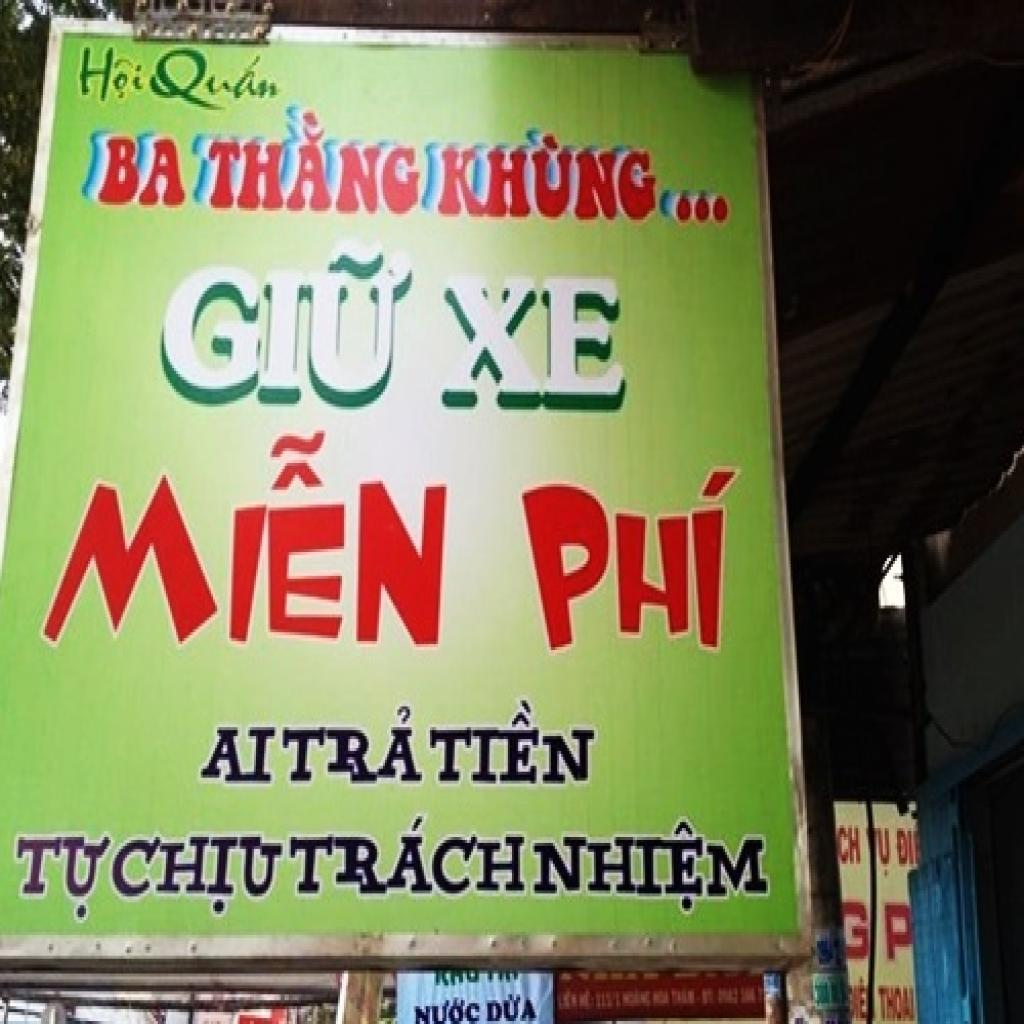text: (33, 424, 459, 659), (151, 234, 422, 418), (514, 463, 746, 662), (432, 122, 735, 232), (438, 264, 631, 422), (207, 104, 424, 222), (531, 816, 774, 920), (287, 808, 530, 906), (102, 825, 289, 926), (426, 694, 600, 792), (276, 700, 426, 790), (12, 828, 119, 929), (147, 44, 287, 118), (94, 134, 193, 214), (194, 724, 278, 790), (76, 44, 147, 110), (882, 899, 916, 968), (840, 896, 872, 965), (412, 994, 485, 1024), (876, 979, 918, 1024), (485, 991, 541, 1024), (838, 822, 864, 870), (877, 819, 895, 882), (849, 973, 868, 1024)
